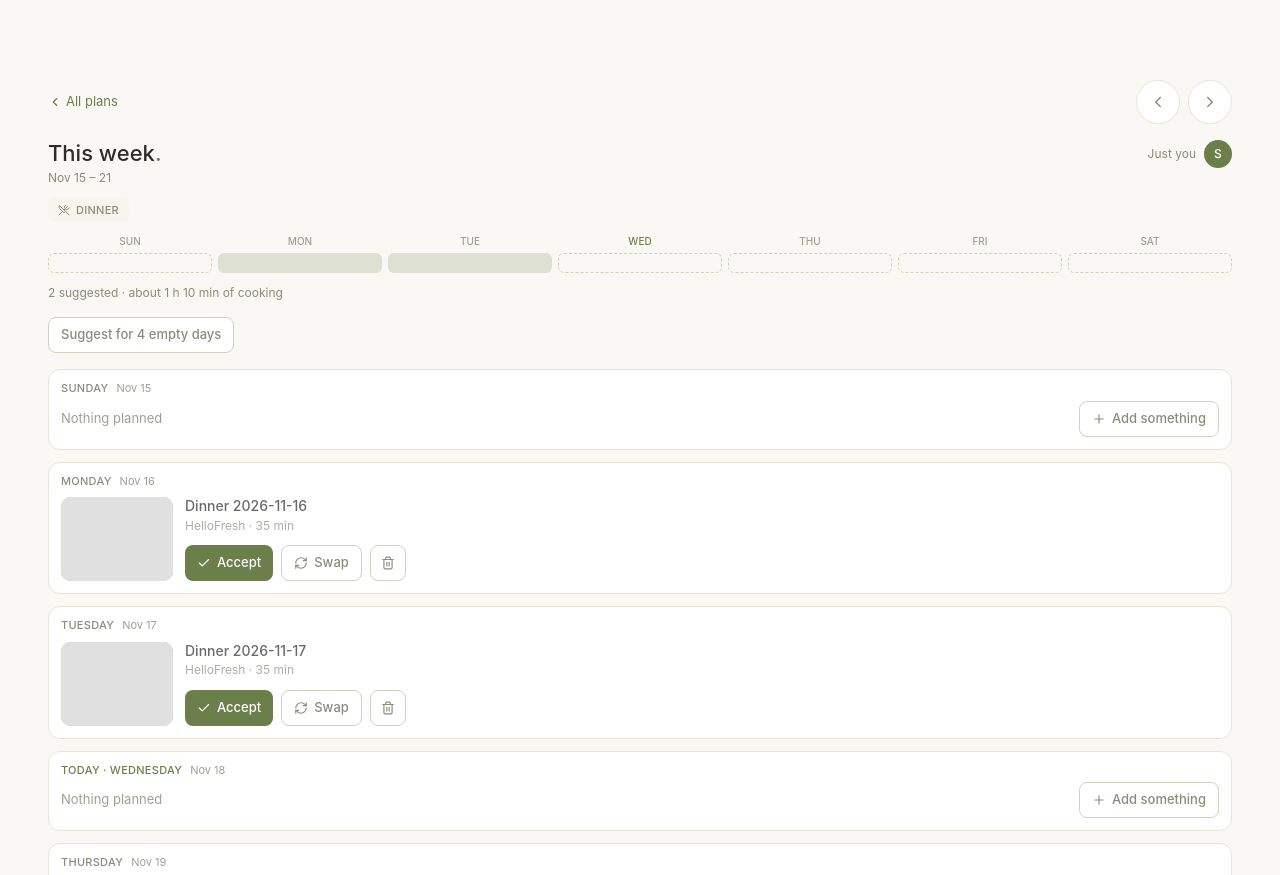
Test: Week editor › acting on suggestions › adds something to an empty day from a band under that day
Click the button with aria-label "Add something for Wednesday" at (1149, 800), box [1079,782,1219,818]
(page scrolled)
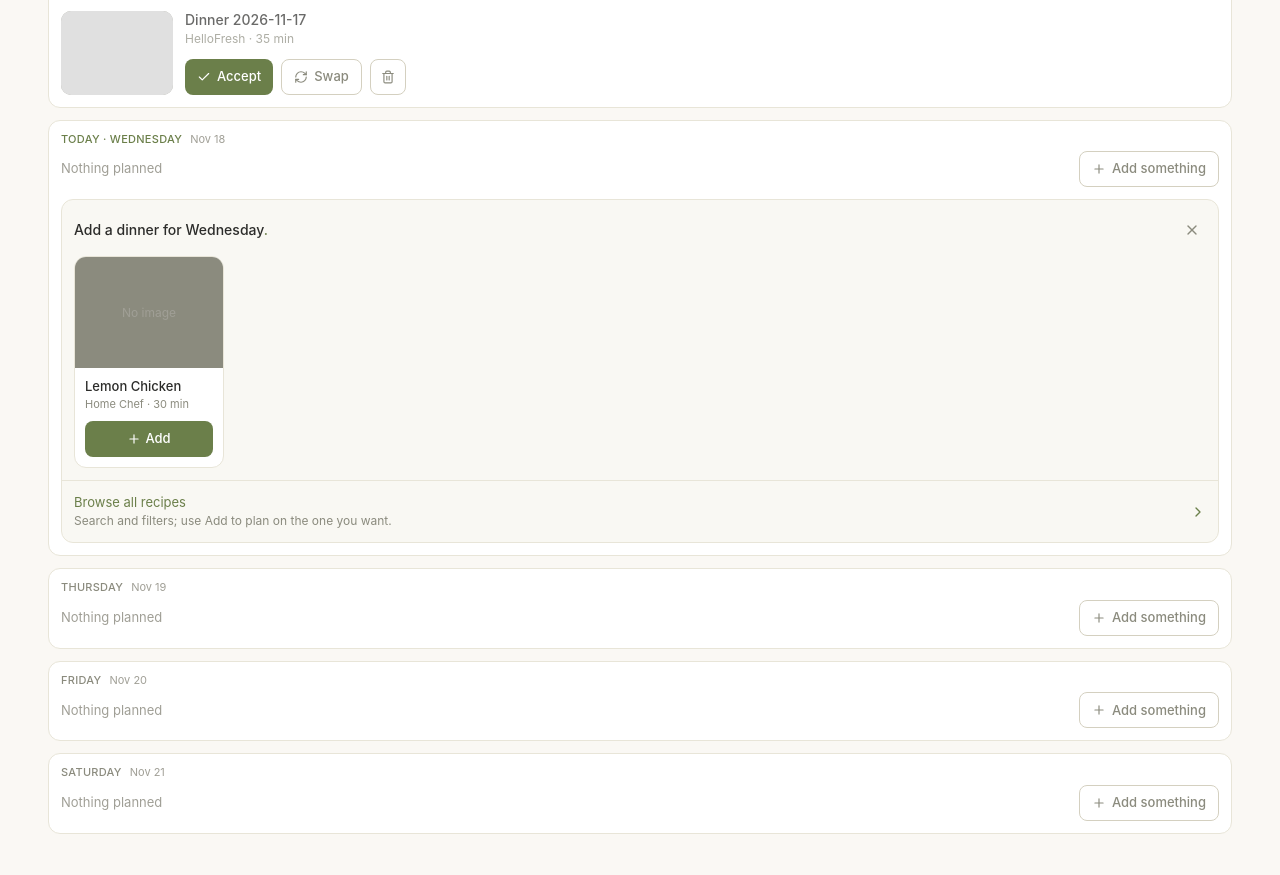
Click the button with aria-label "Add Lemon Chicken" at (149, 439), box [85,421,213,457]
(page scrolled)
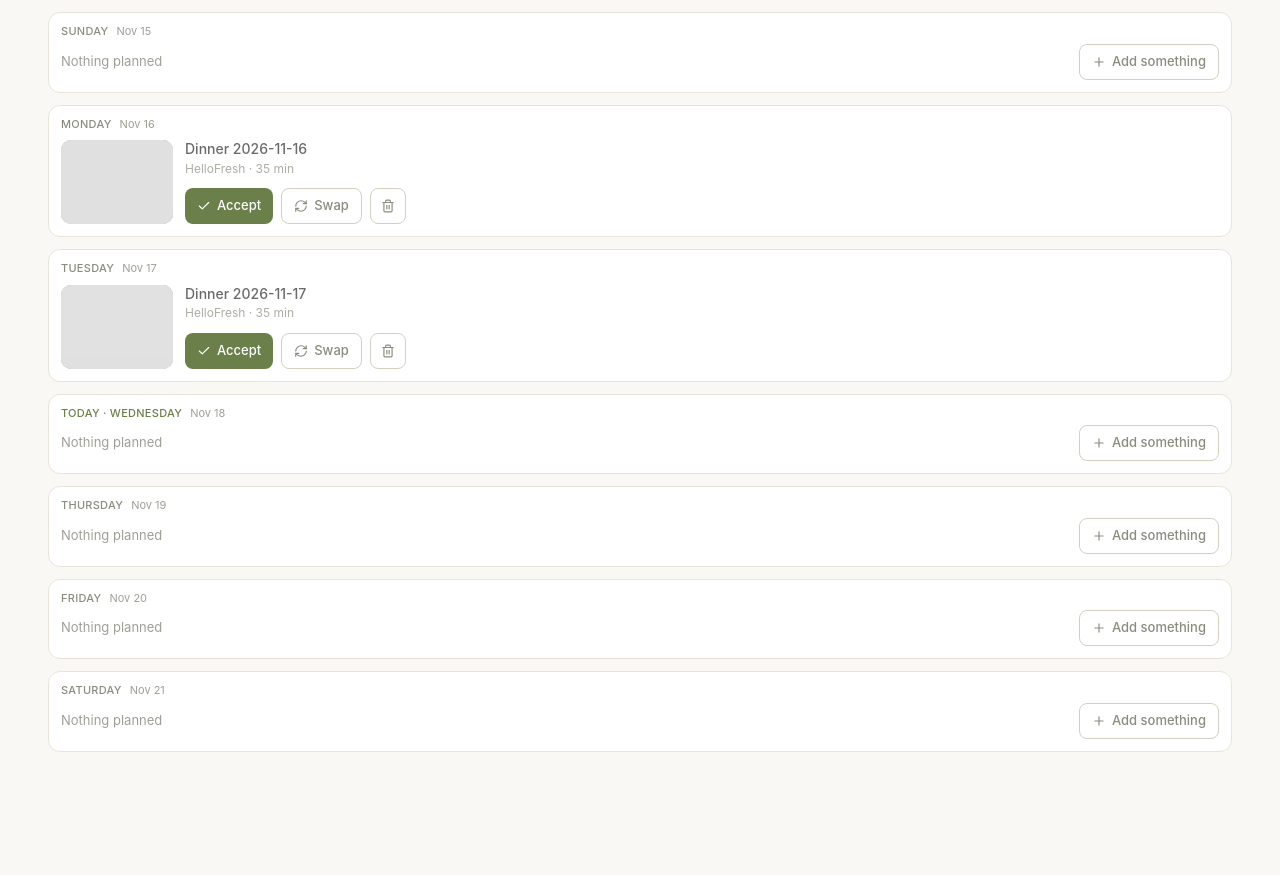
expect the heading "Add a dinner for Wednesday" is gone: met
